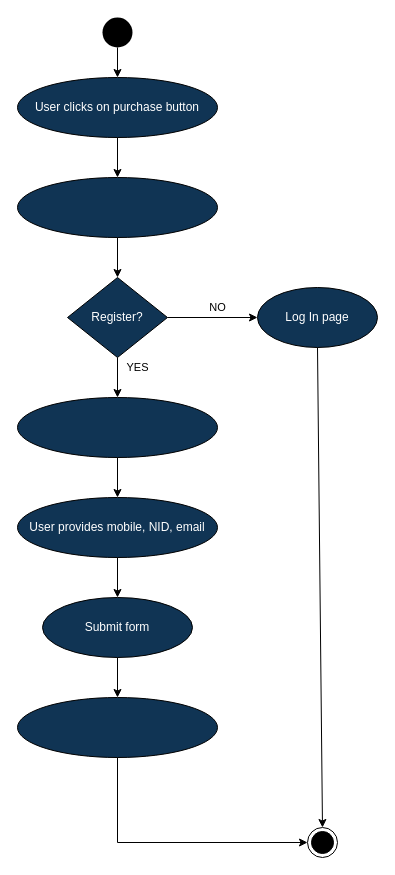
This 395x875 diagram has some shape labels left out. Here are the shapes that lost their labels. From the top down, the centre of each, then its label:
[117,207]: Redirect to registration/login page
[117,427]: User fills out registration form
[117,727]: User successfully registered
